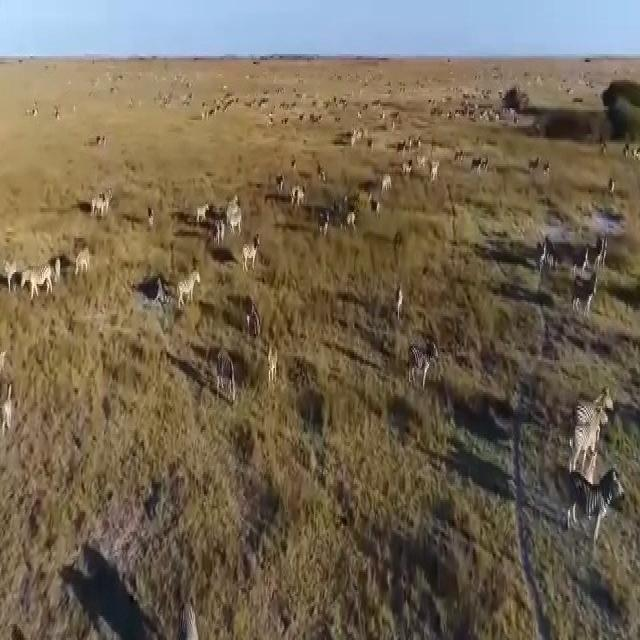Zebra: (562, 471, 630, 546), (567, 400, 610, 474), (212, 344, 245, 410), (562, 275, 601, 317), (406, 330, 437, 382), (170, 590, 200, 640), (22, 262, 59, 300), (265, 344, 297, 386), (241, 236, 267, 285), (89, 183, 120, 222), (583, 236, 611, 279), (282, 178, 311, 218), (176, 270, 204, 310), (421, 148, 445, 184), (581, 387, 612, 413), (224, 198, 245, 232), (4, 250, 19, 294), (195, 200, 222, 224), (538, 242, 562, 262), (78, 246, 96, 272), (474, 152, 493, 176), (396, 283, 406, 322), (527, 145, 540, 173), (316, 205, 329, 232), (342, 208, 361, 226), (379, 172, 397, 190)
